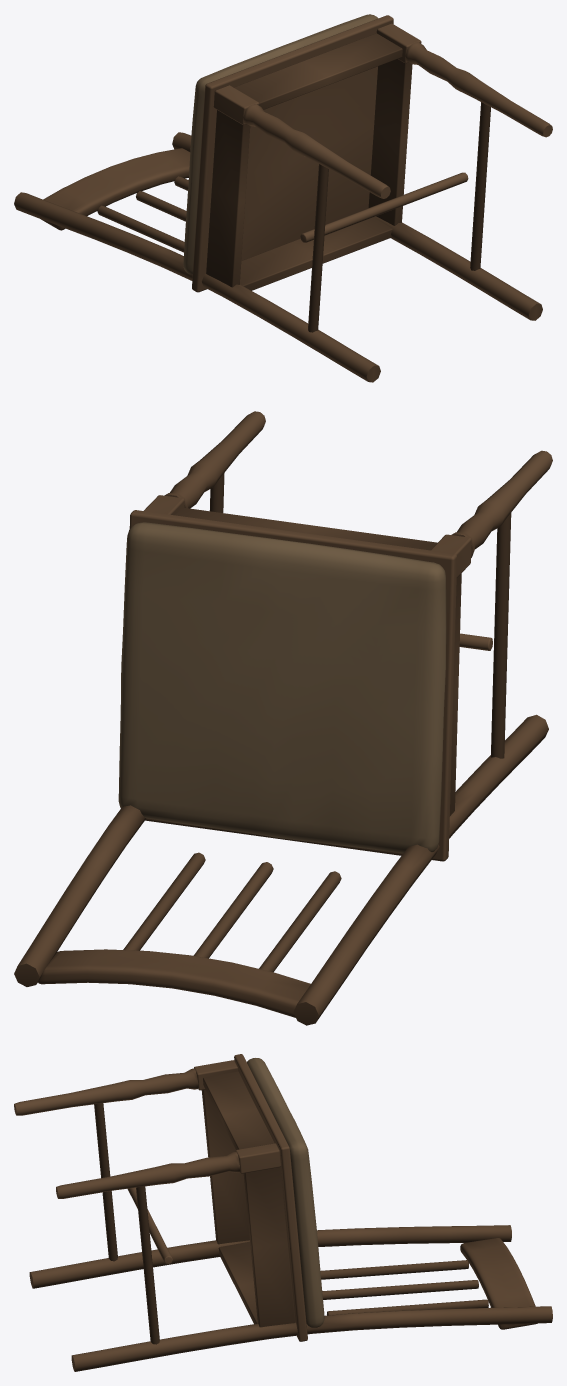
Rendered from dining_chair_tipped.glb.
3 renders of one model, top to bottom at view 1: azimuth 30°, elevation 25°; view 2: azimuth 150°, elevation 25°; view 3: azimuth 270°, elevation 25°, orthographic. The views are drawn at different scales.
Visible parts, largest first — view 1: dining_chair_tipped; view 2: dining_chair_tipped; view 3: dining_chair_tipped.
Part boxes in pixels (bbox=[...]): dining_chair_tipped: bbox=[14, 14, 552, 382]; dining_chair_tipped: bbox=[14, 411, 552, 1025]; dining_chair_tipped: bbox=[14, 1054, 552, 1371].
Bounding box in the file's own units: 0.5933 × 0.4392 × 1.02.
